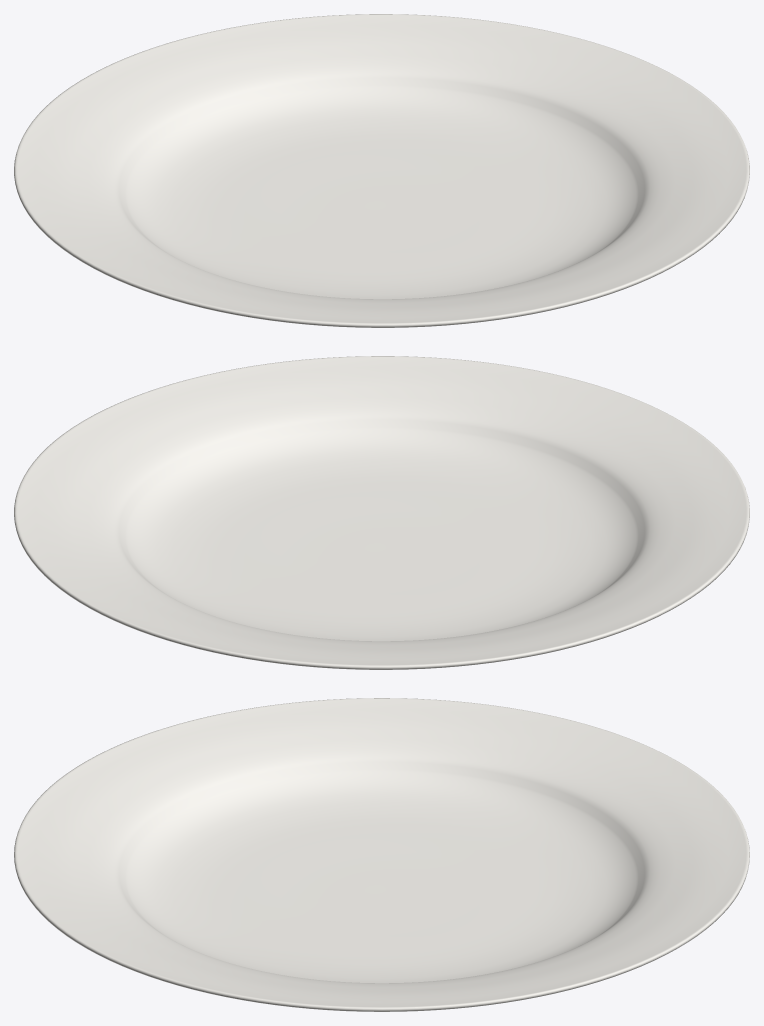
File: white-plate.glb
3 views of the same model, one above another, from view 1: azimuth 30°, elevation 25°; view 2: azimuth 150°, elevation 25°; view 3: azimuth 270°, elevation 25° (orthographic).
Parts seen in each view (by area): view 1: white-plate; view 2: white-plate; view 3: white-plate.
Boxes of the visible parts, x1,y1,x2,y2 form: white-plate: [14, 14, 749, 327]; white-plate: [14, 356, 749, 669]; white-plate: [14, 698, 749, 1011].
Size of the model in its own units: 0.2707 by 0.0238 by 0.2707.
Materials: 1 (1 with a texture image).
